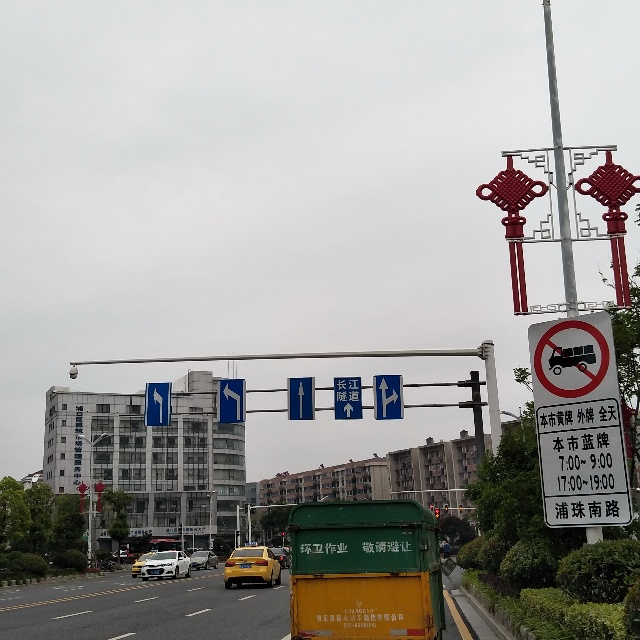left: (216, 380, 244, 423), (147, 382, 168, 426)
straight: (292, 379, 313, 416), (337, 397, 360, 420)
